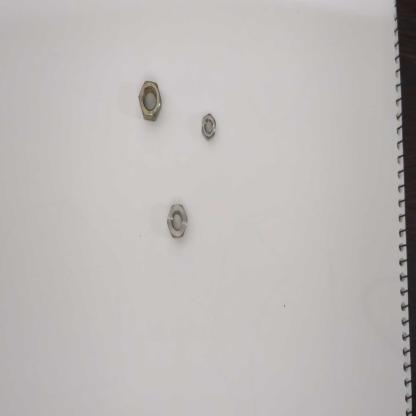NUTS: (136, 80, 164, 122), (164, 200, 189, 244), (200, 109, 218, 146)
